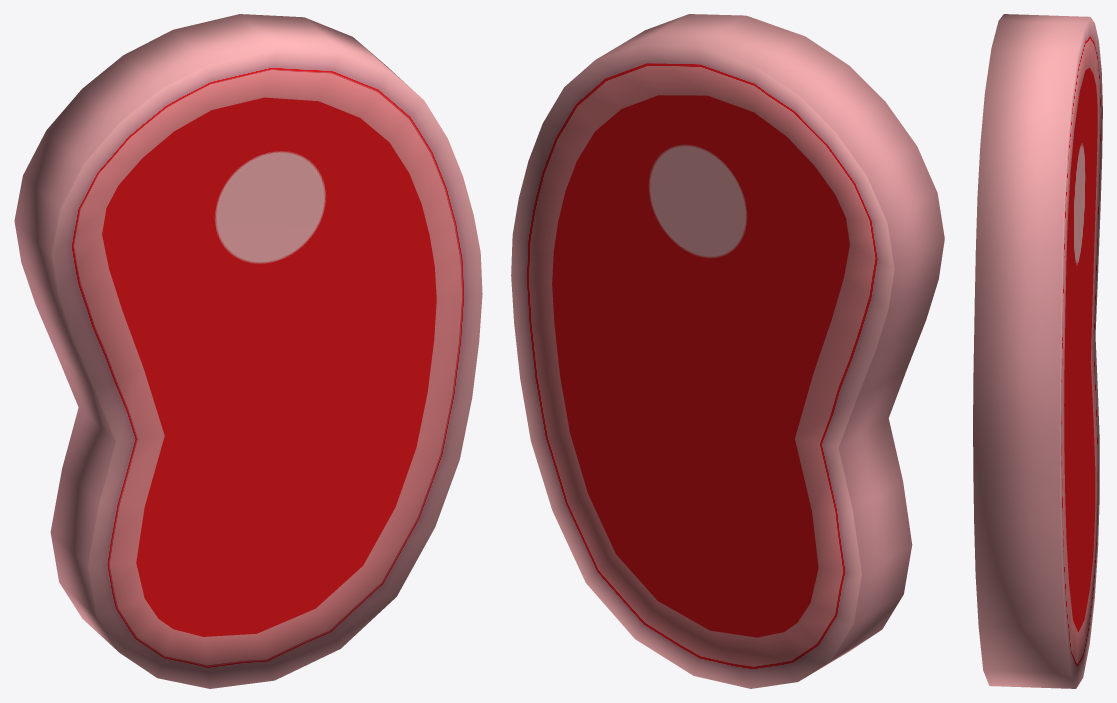
The model's file is red_meat.glb.
The picture shows the model from 3 angles, left to right: view 1: azimuth 30°, elevation 25°; view 2: azimuth 150°, elevation 25°; view 3: azimuth 270°, elevation 25°; orthographic projection.
Visible parts, largest first — view 1: Red_Meat; view 2: Red_Meat; view 3: Red_Meat.
Boxes of the visible parts, x1=… form: Red_Meat: x1=14, y1=14, x2=482, y2=688; Red_Meat: x1=511, y1=14, x2=944, y2=688; Red_Meat: x1=973, y1=14, x2=1102, y2=688.
Bounding box in the file's own units: 0.4792 × 0.6993 × 0.1314.
1 material, 1 textured.
